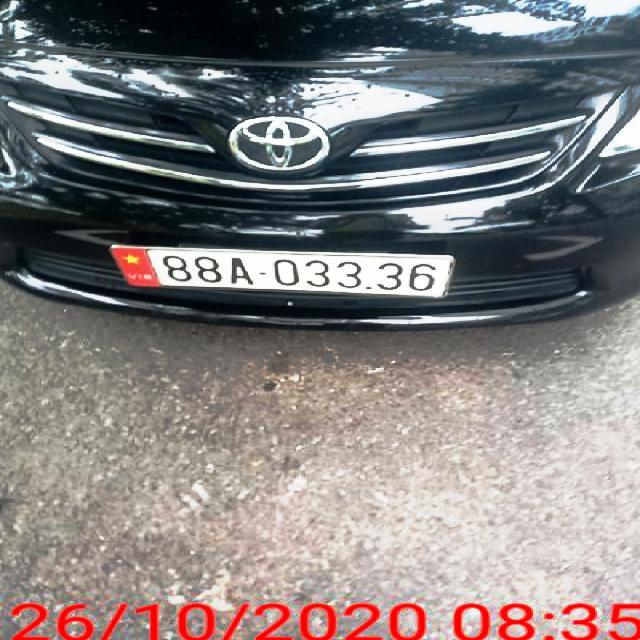license_plate: (109, 246, 456, 298)
